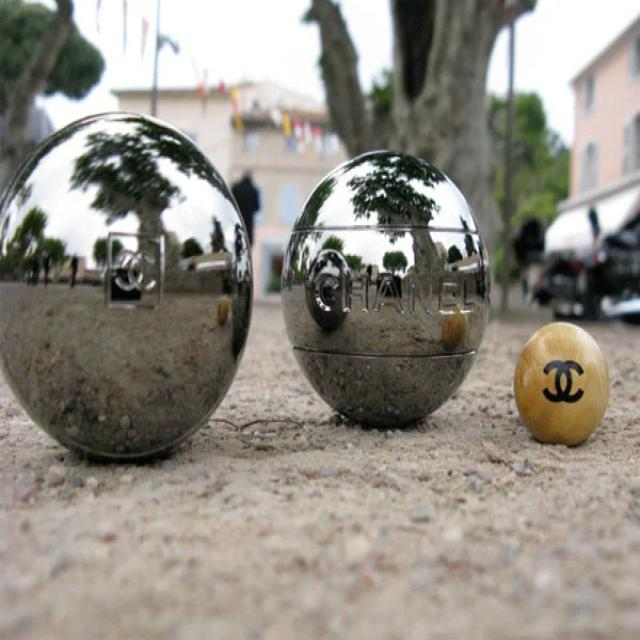hatball: (509, 305, 621, 461)
petanque: (0, 92, 268, 483), (254, 142, 506, 454)
